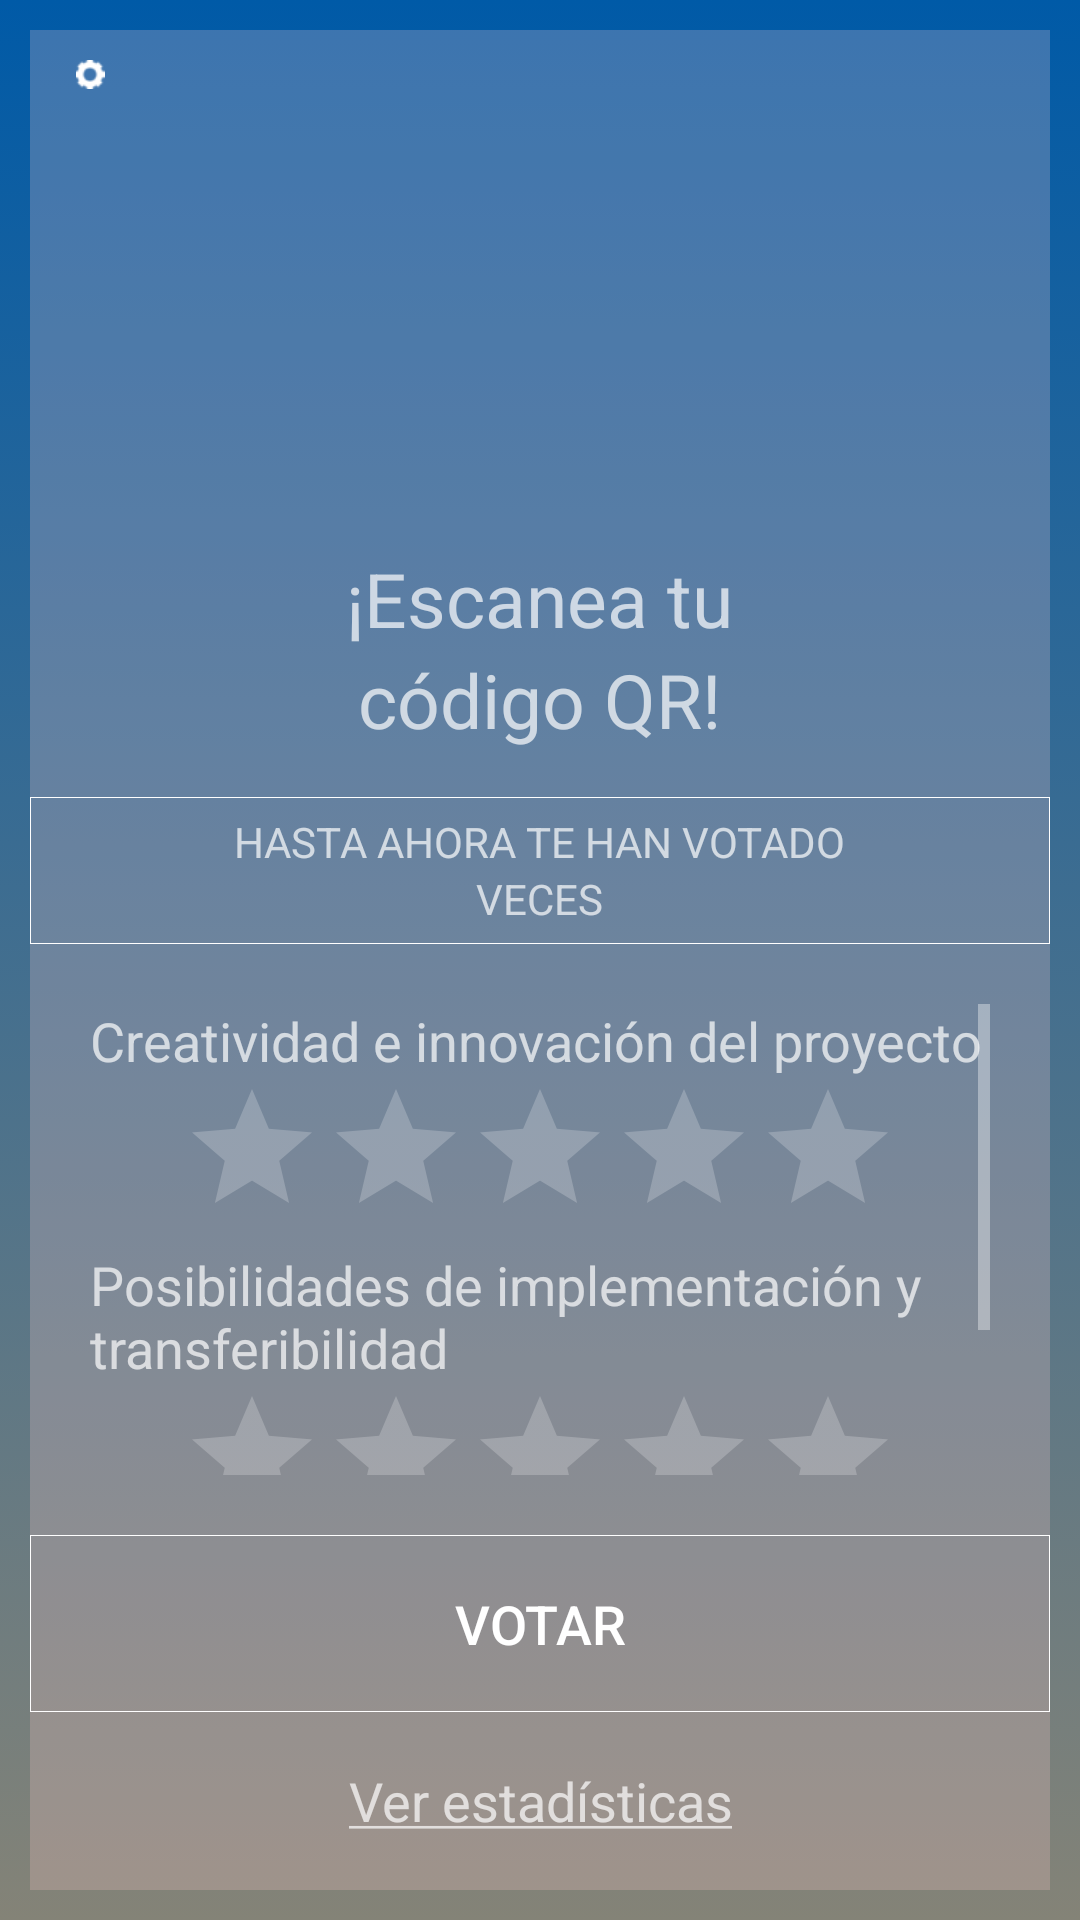

Named icons in this screenshot (1080w x 1920h) and their bounding boxes, [left=x1, top=y1, right=x2, bottom=y2]:
ajustes: [left=76, top=60, right=105, bottom=89]
